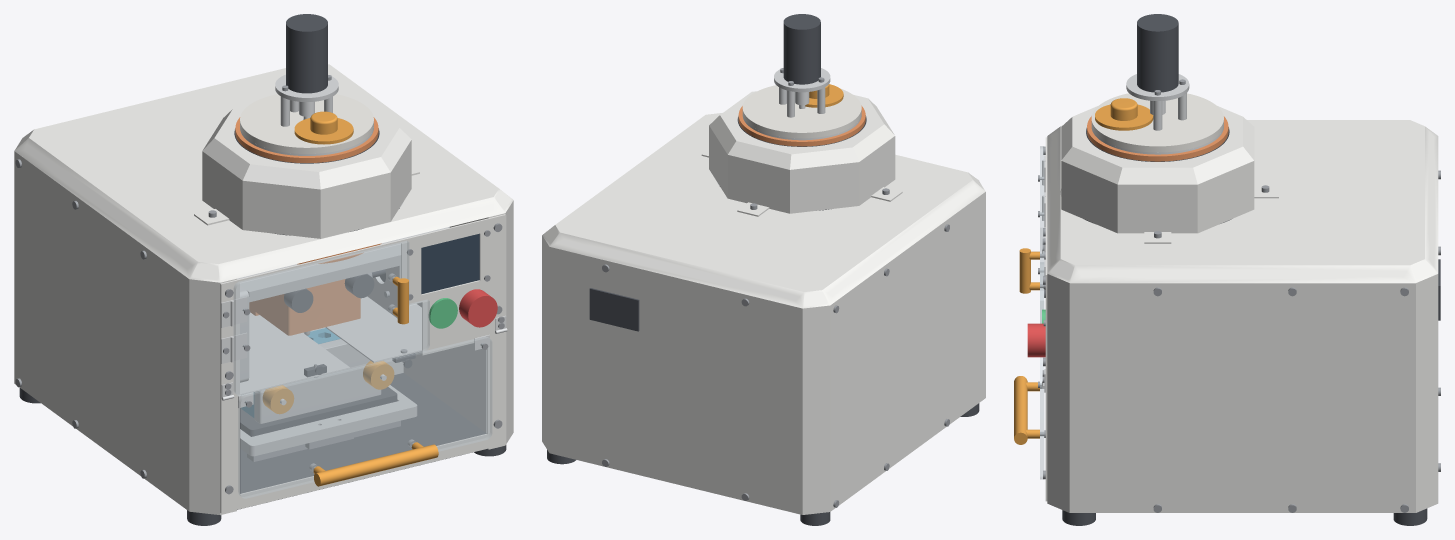
File: pour.glb
The picture shows the model from 3 angles, left to right: view 1: azimuth 30°, elevation 25°; view 2: azimuth 150°, elevation 25°; view 3: azimuth 270°, elevation 25°; orthographic projection. The views are drawn at different scales.
Visible parts, largest first — view 1: P200_wrap, P201_cap, P183_niche_door, P185_service_door, P202_tank_housing, P203_front_panel, P181_niche_liner, P100_base, P163_lid, C202_front_plate, P112_index_table, P103_top_plate (+15 smaller); view 2: P200_wrap, P201_cap, P202_tank_housing, P163_lid, P165_stir_motor, P191_power_inlet, P166_stir_mount, P161_tank_sleeve, P164_fill_plug; view 3: P200_wrap, P201_cap, P202_tank_housing, P163_lid, P165_stir_motor, P164_fill_plug, P161_tank_sleeve, P166_stir_mount, P184_niche_handle, P203_front_panel, P185_service_door, P183_niche_door (+2 smaller).
Part boxes in pixels (x1=…): P200_wrap: x1=14, y1=151, x2=513, y2=515; P201_cap: x1=14, y1=64, x2=513, y2=282; P183_niche_door: x1=238, y1=336, x2=492, y2=498; P185_service_door: x1=233, y1=240, x2=429, y2=396; P202_tank_housing: x1=194, y1=101, x2=419, y2=238; P203_front_panel: x1=220, y1=214, x2=506, y2=513; P181_niche_liner: x1=240, y1=296, x2=486, y2=432; P100_base: x1=237, y1=373, x2=487, y2=509; P163_lid: x1=240, y1=94, x2=373, y2=153; C202_front_plate: x1=254, y1=339, x2=381, y2=423; P112_index_table: x1=240, y1=385, x2=417, y2=456; P103_top_plate: x1=237, y1=203, x2=439, y2=301; P200_wrap: x1=542, y1=192, x2=985, y2=514; P201_cap: x1=542, y1=113, x2=985, y2=308; P202_tank_housing: x1=701, y1=91, x2=902, y2=216; P163_lid: x1=742, y1=85, x2=861, y2=138; P165_stir_motor: x1=783, y1=14, x2=820, y2=84; P191_power_inlet: x1=589, y1=288, x2=639, y2=331; P166_stir_mount: x1=774, y1=68, x2=830, y2=117; P161_tank_sleeve: x1=738, y1=105, x2=865, y2=146; P164_fill_plug: x1=805, y1=84, x2=843, y2=107; P200_wrap: x1=1047, y1=191, x2=1438, y2=512; P201_cap: x1=1047, y1=120, x2=1438, y2=283; P202_tank_housing: x1=1061, y1=106, x2=1278, y2=243; P163_lid: x1=1091, y1=93, x2=1223, y2=152; P165_stir_motor: x1=1137, y1=14, x2=1178, y2=92; P164_fill_plug: x1=1095, y1=98, x2=1153, y2=130; P161_tank_sleeve: x1=1087, y1=116, x2=1228, y2=161; P166_stir_mount: x1=1126, y1=74, x2=1189, y2=130; P184_niche_handle: x1=1014, y1=376, x2=1039, y2=444; P203_front_panel: x1=1045, y1=137, x2=1047, y2=501; P185_service_door: x1=1040, y1=146, x2=1044, y2=323; P183_niche_door: x1=1040, y1=262, x2=1044, y2=479.
Bounding box in the file's own units: 0.3344 × 0.42 × 0.3802.
